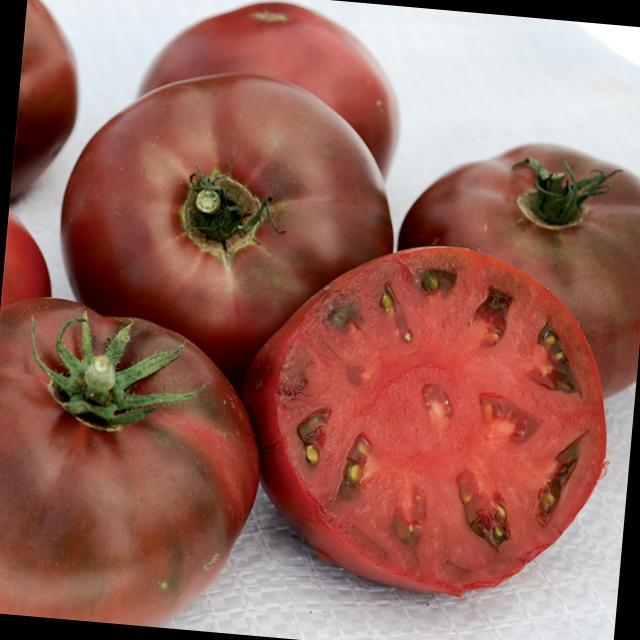TOMATO: (281, 249, 640, 597), (0, 288, 271, 625), (51, 72, 372, 350), (144, 0, 416, 145), (7, 0, 85, 229)
